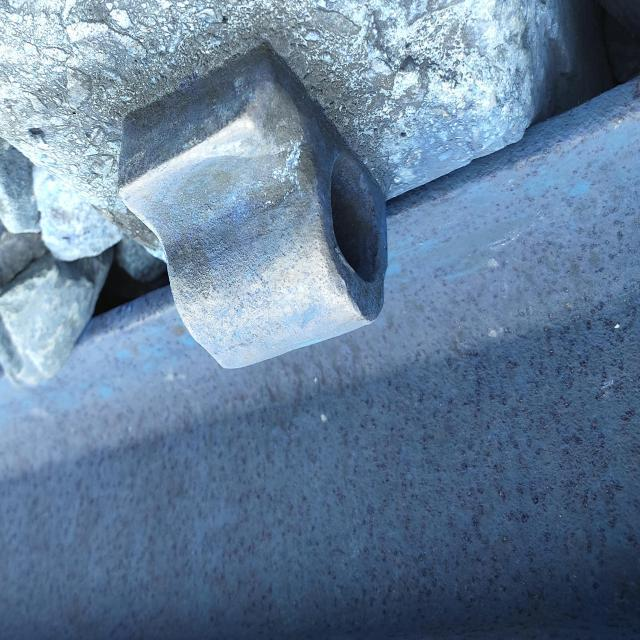Missing Fastener: (90, 13, 436, 393)
